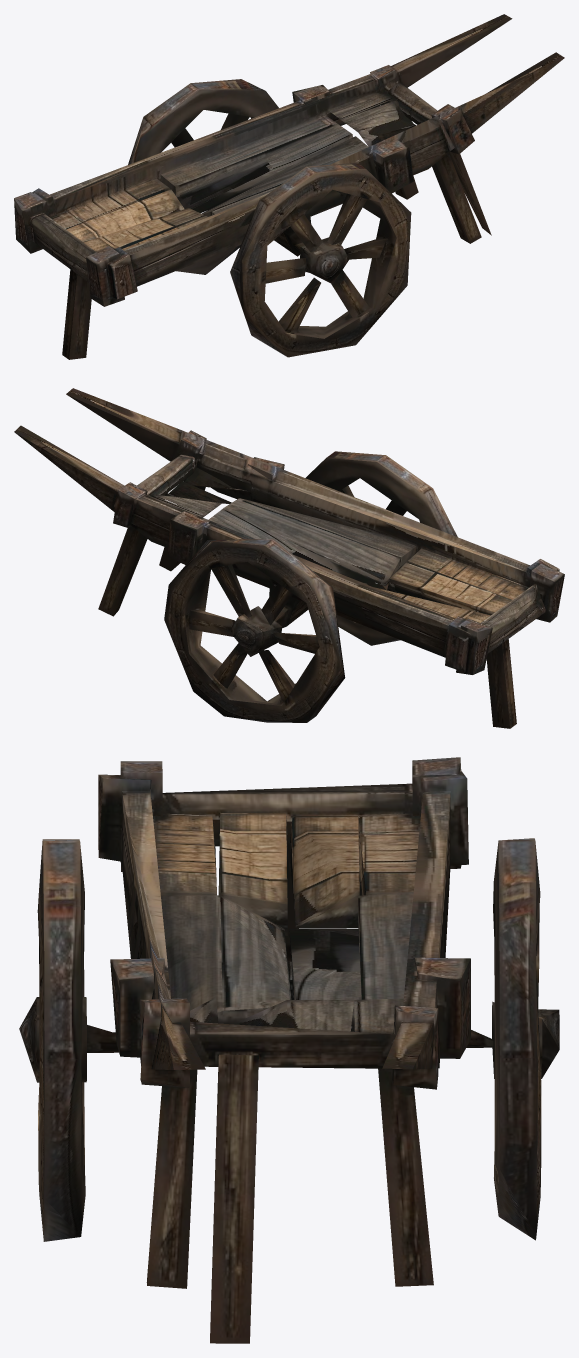
Rendered from act1_kit_v1_hand_cart.glb.
The picture shows the model from 3 angles, top to bottom: view 1: azimuth 30°, elevation 25°; view 2: azimuth 150°, elevation 25°; view 3: azimuth 270°, elevation 25°; orthographic projection. The views are drawn at different scales.
Parts seen in each view (by area): view 1: A02_6_hand_cart; view 2: A02_6_hand_cart; view 3: A02_6_hand_cart.
Boxes of the visible parts, box(x1,y1,x2,y2) form: A02_6_hand_cart: box(14, 14, 564, 359); A02_6_hand_cart: box(14, 388, 564, 728); A02_6_hand_cart: box(19, 757, 559, 1343).
Size of the model in its own units: 0.9986 by 0.4154 by 0.4876.
1 material, 1 textured.
